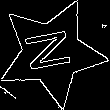N_E: (23, 28, 80, 77)
